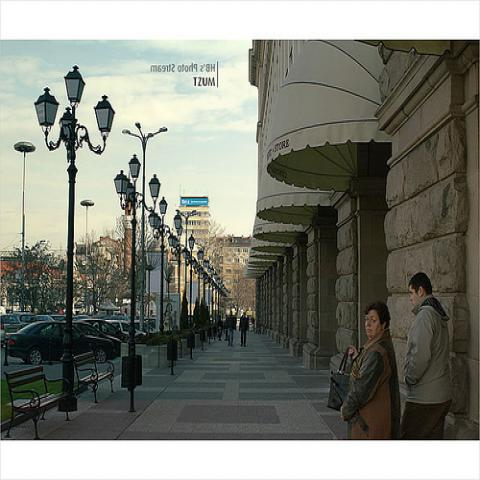car: (4, 320, 122, 364), (80, 318, 128, 343), (0, 314, 24, 350), (108, 319, 148, 336), (15, 312, 54, 325), (134, 319, 154, 332)
